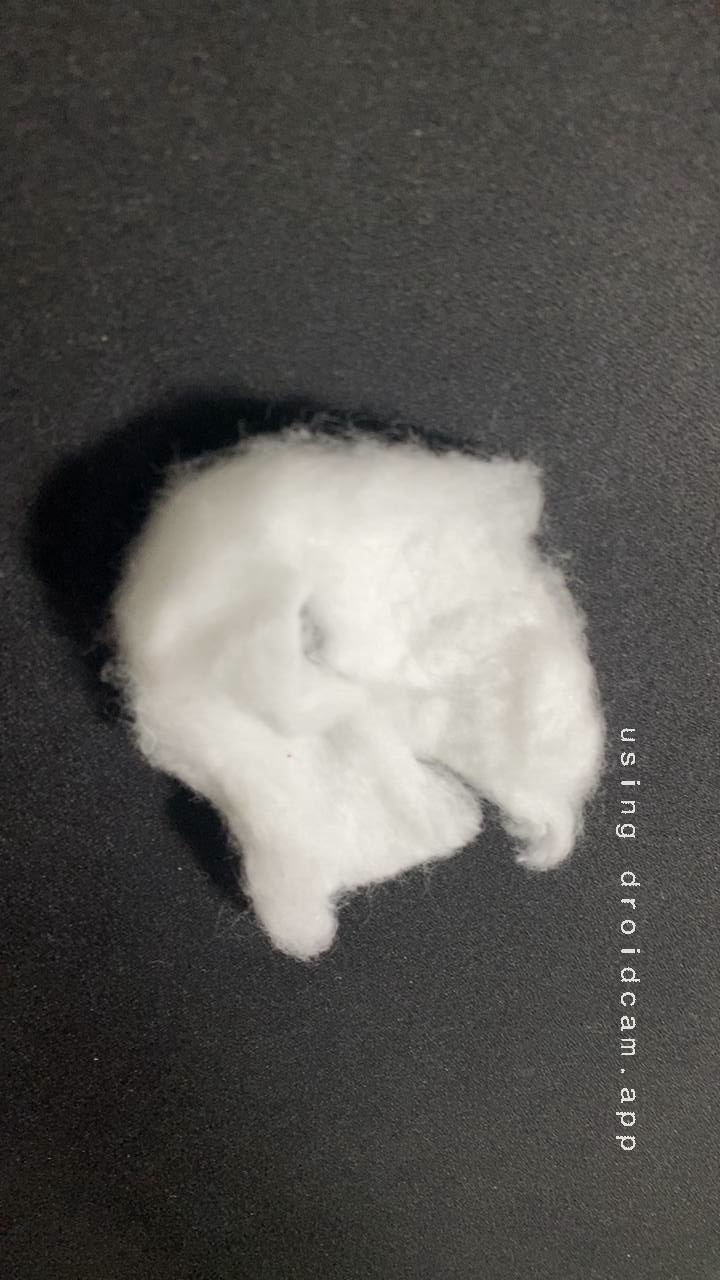cotton: (71, 407, 676, 964)
